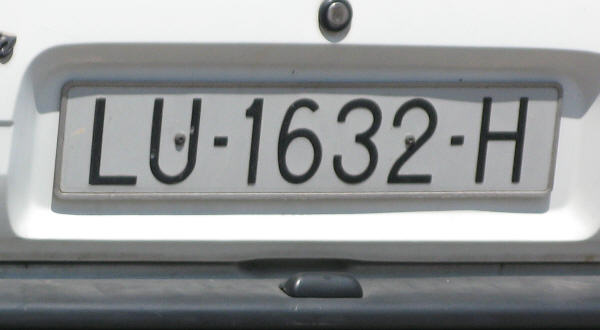license_plate: (53, 79, 563, 202)
